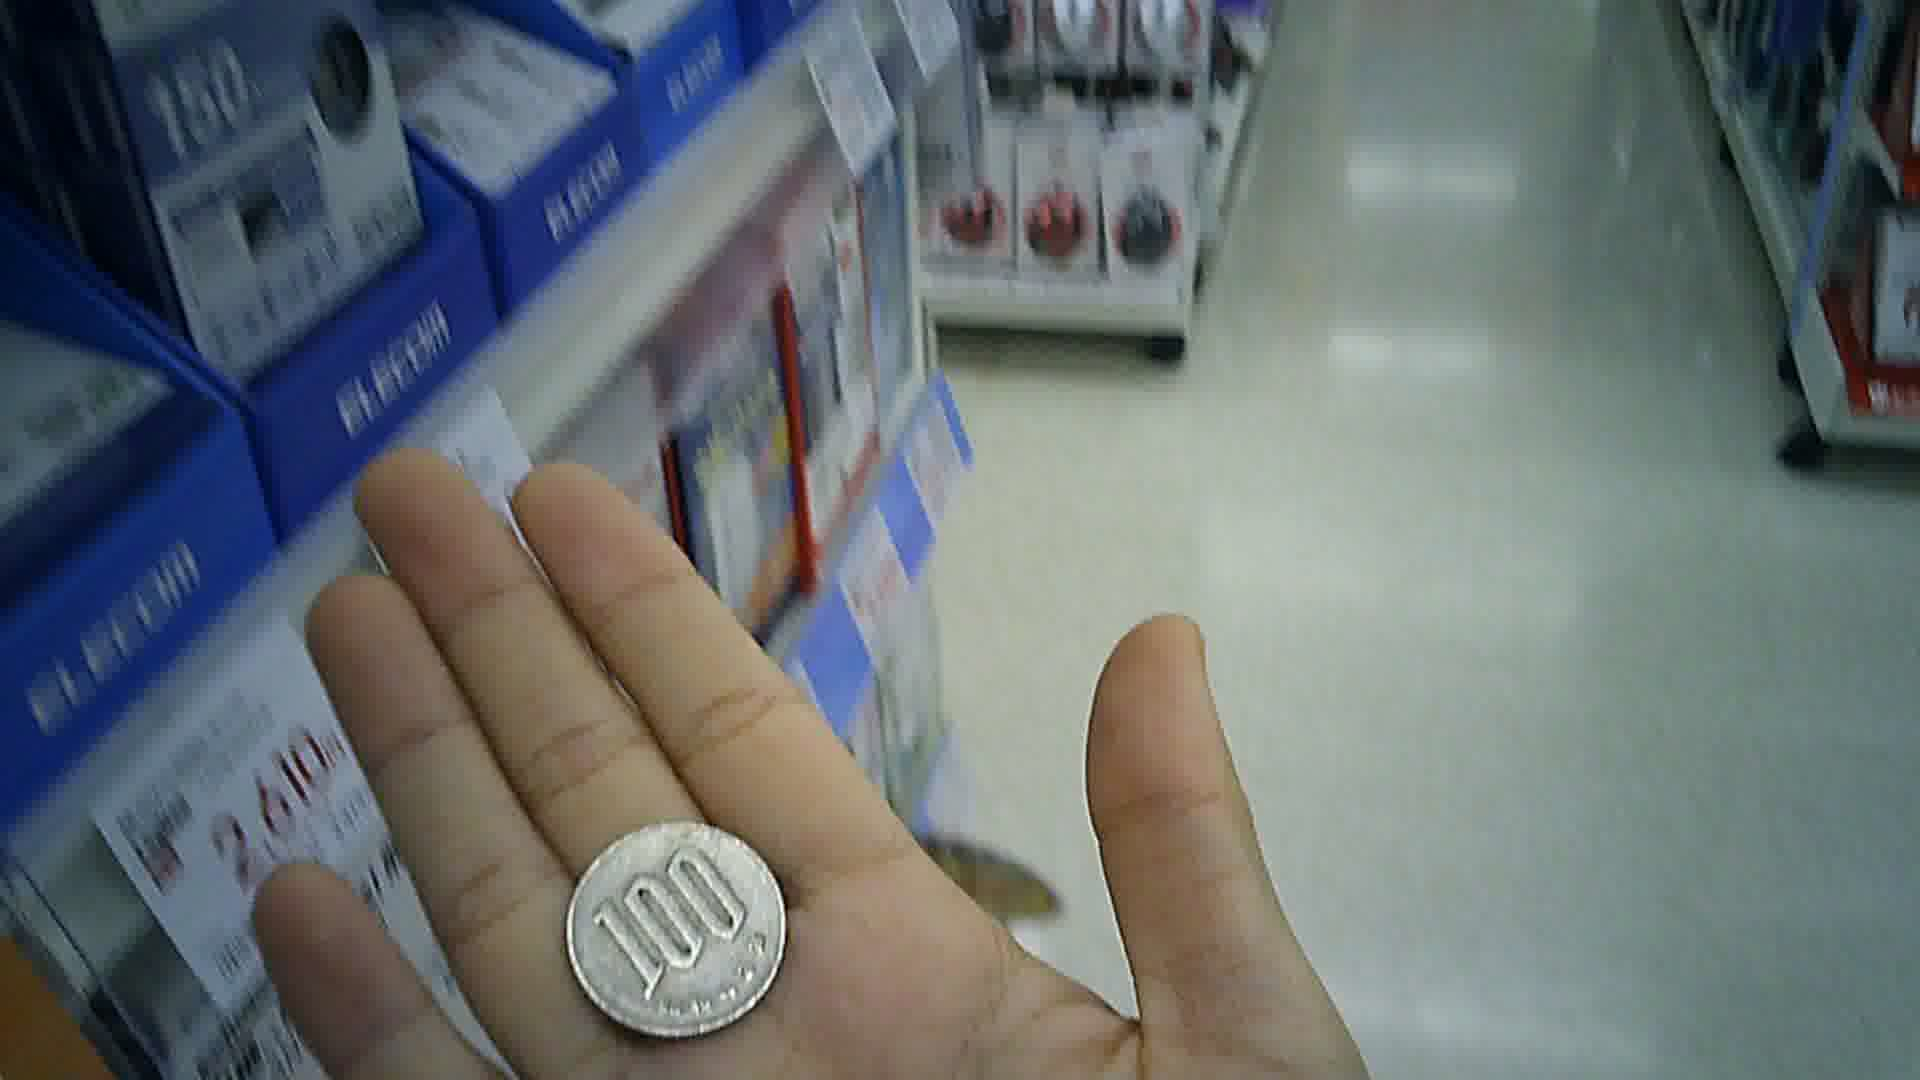100 Yen: (564, 818, 783, 1036)
